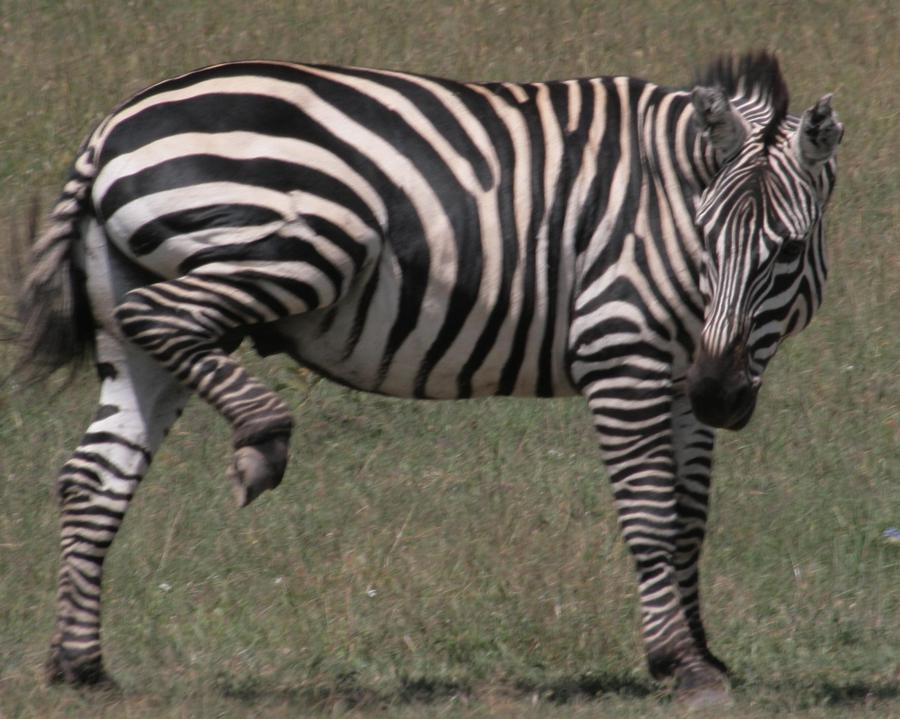zebra_plains: (189, 59, 719, 347)
